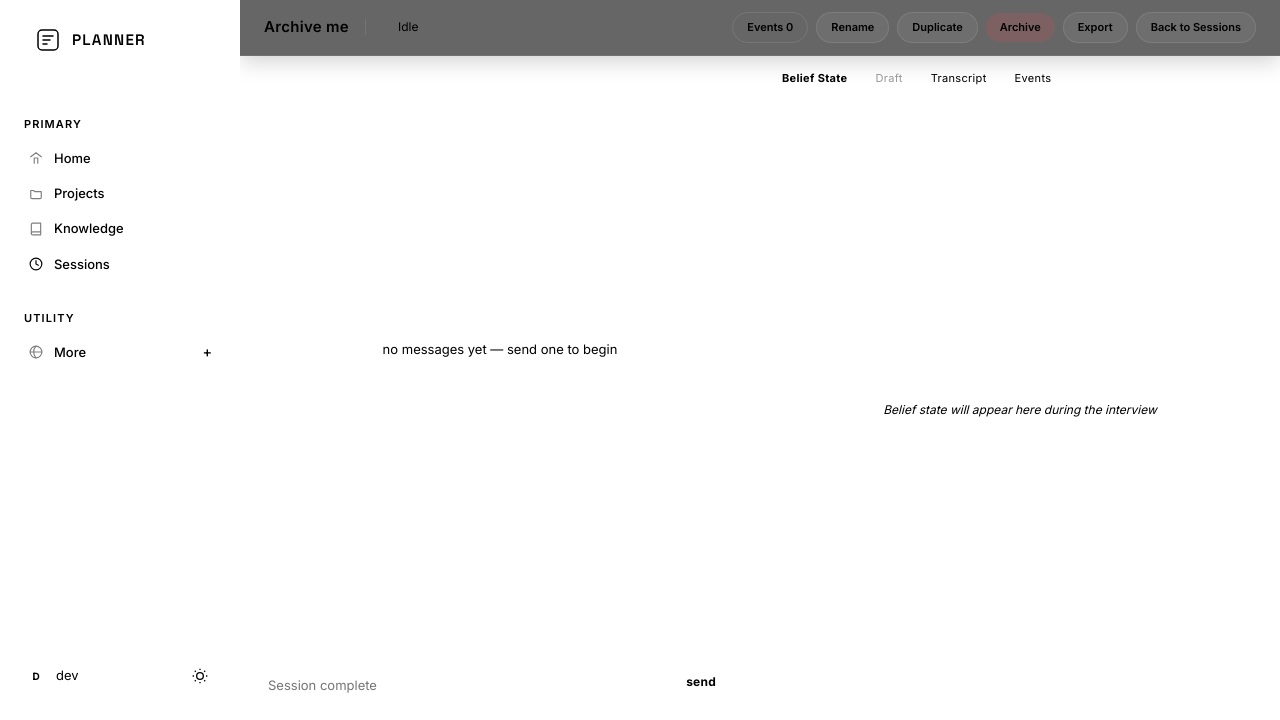
SessionPage resume behavior › archives the session from the action bar
Click the button "Archive" at (1020, 27), box x1=986 y1=13 x2=1055 y2=42
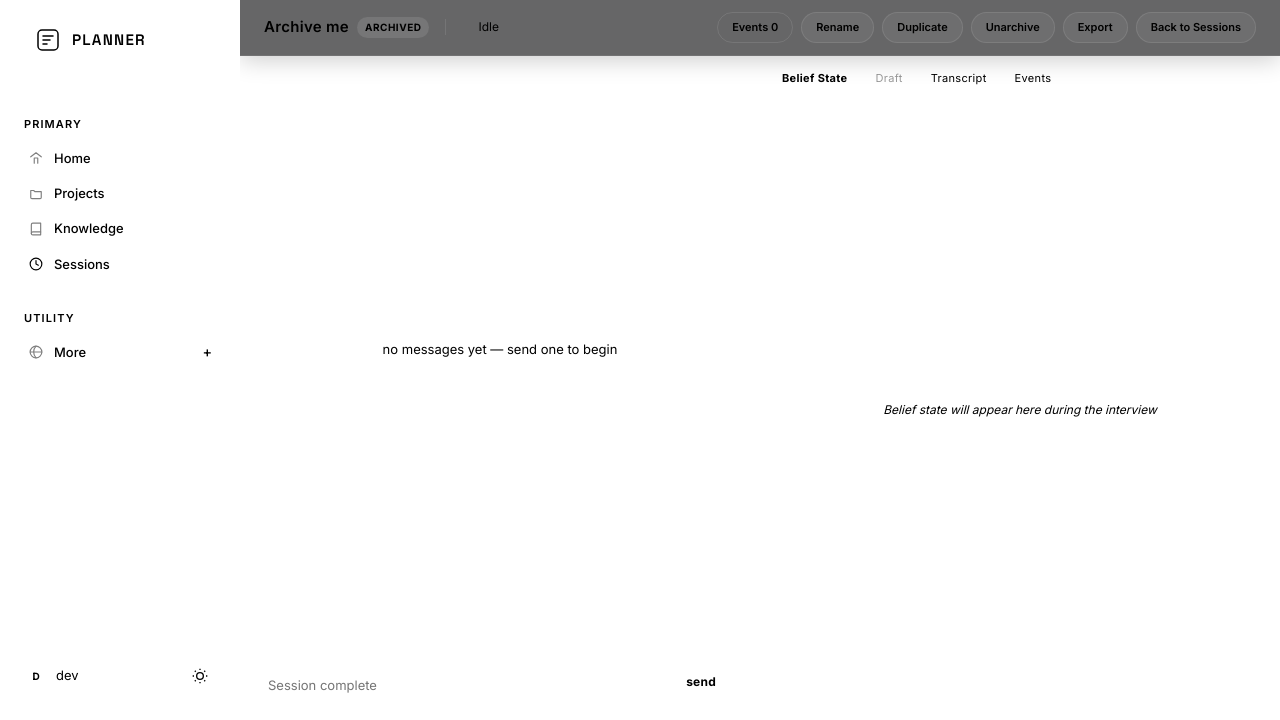
Expected: the text "Archived" is shown, x1=357 y1=17 x2=430 y2=38
